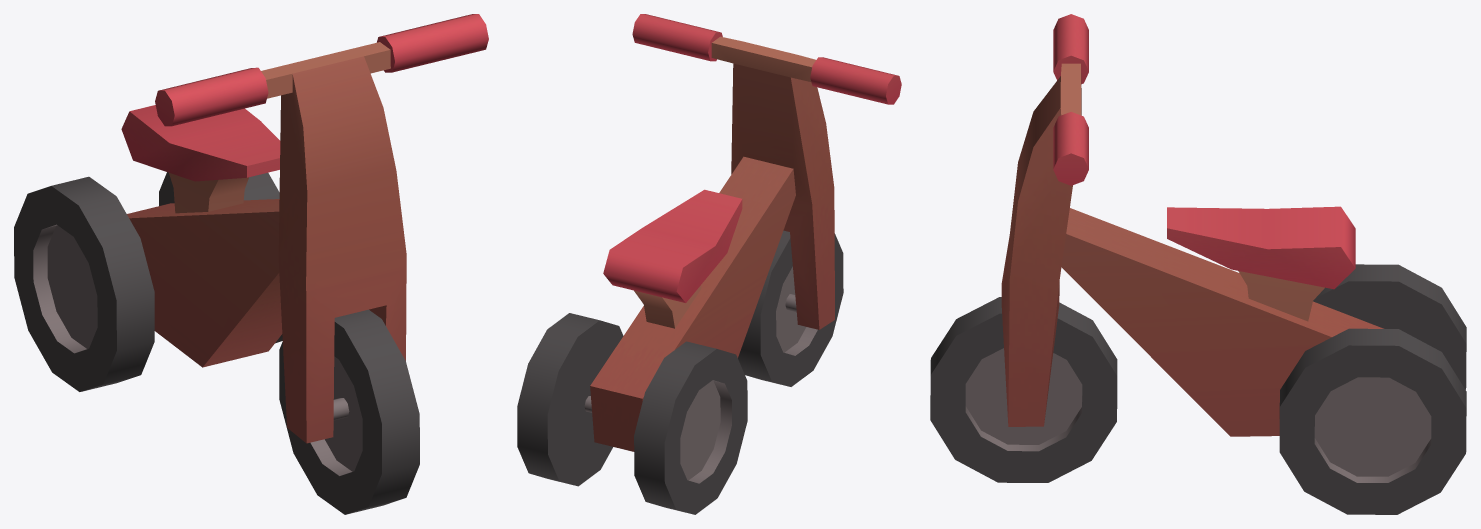
File: SM_Kid_Push_Bicycle_01.fbx
3 views of the same model, side by side, from view 1: azimuth 30°, elevation 25°; view 2: azimuth 150°, elevation 25°; view 3: azimuth 270°, elevation 25° (orthographic). The views are drawn at different scales.
Parts seen in each view (by area): view 1: SM_Kid_Push_Bicycle_01; view 2: SM_Kid_Push_Bicycle_01; view 3: SM_Kid_Push_Bicycle_01.
Part boxes in pixels (box(x1,y1,x2,y2)): SM_Kid_Push_Bicycle_01: box(14, 14, 488, 514); SM_Kid_Push_Bicycle_01: box(517, 14, 901, 514); SM_Kid_Push_Bicycle_01: box(930, 14, 1466, 514).
Bounding box in the file's own units: 49.61 × 64.8 × 80.67.
